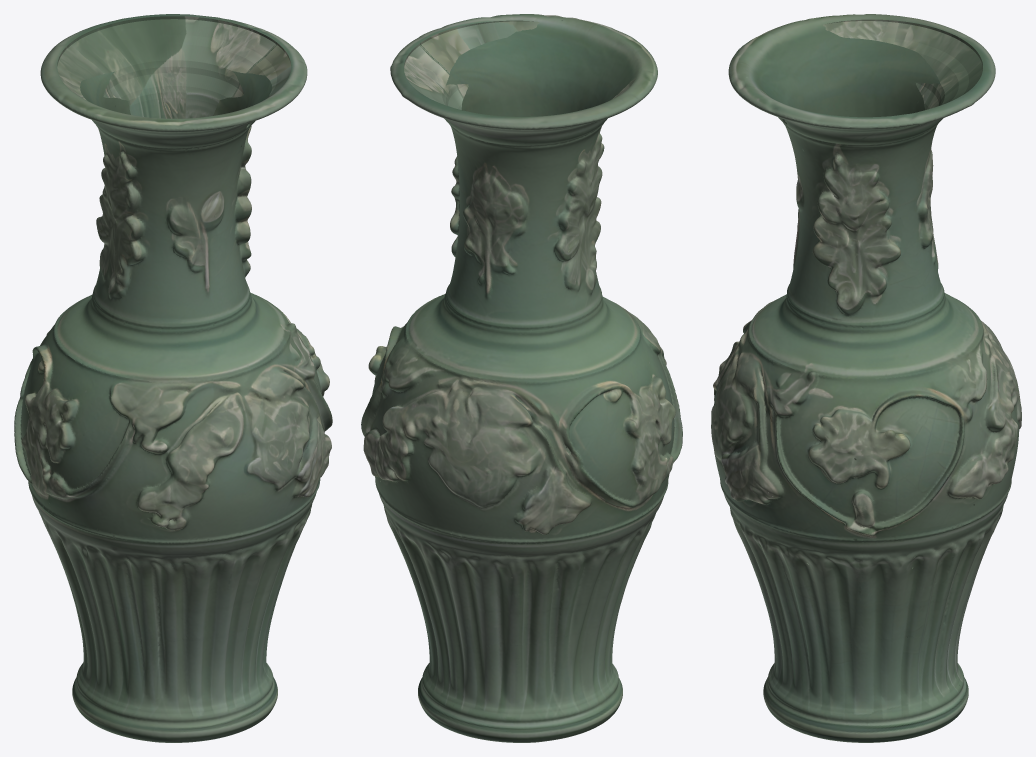
Rendered from assembly-parts.glb.
3 views of the same model, side by side, from view 1: azimuth 30°, elevation 25°; view 2: azimuth 150°, elevation 25°; view 3: azimuth 270°, elevation 25° (orthographic).
Parts seen in each view (by area): view 1: broken_body, fragment_01, fragment_05, fragment_02, fragment_03; view 2: broken_body, fragment_03, fragment_05, fragment_04, fragment_01; view 3: broken_body, fragment_02, fragment_04, fragment_05.
Part boxes in pixels (x1=…): broken_body: x1=15, y1=14, x2=332, y2=483; fragment_01: x1=39, y1=417, x2=247, y2=649; fragment_05: x1=72, y1=603, x2=277, y2=742; fragment_02: x1=227, y1=409, x2=331, y2=637; fragment_03: x1=14, y1=415, x2=91, y2=628; broken_body: x1=361, y1=14, x2=682, y2=488; fragment_03: x1=445, y1=453, x2=659, y2=649; fragment_05: x1=418, y1=610, x2=622, y2=742; fragment_04: x1=361, y1=428, x2=468, y2=649; fragment_01: x1=599, y1=427, x2=682, y2=632; broken_body: x1=725, y1=14, x2=1019, y2=509; fragment_02: x1=711, y1=365, x2=867, y2=647; fragment_04: x1=860, y1=396, x2=1021, y2=645; fragment_05: x1=763, y1=611, x2=968, y2=742.
Size of the model in its own units: 0.4562 by 1 by 0.442.
2 materials, 1 textured.
